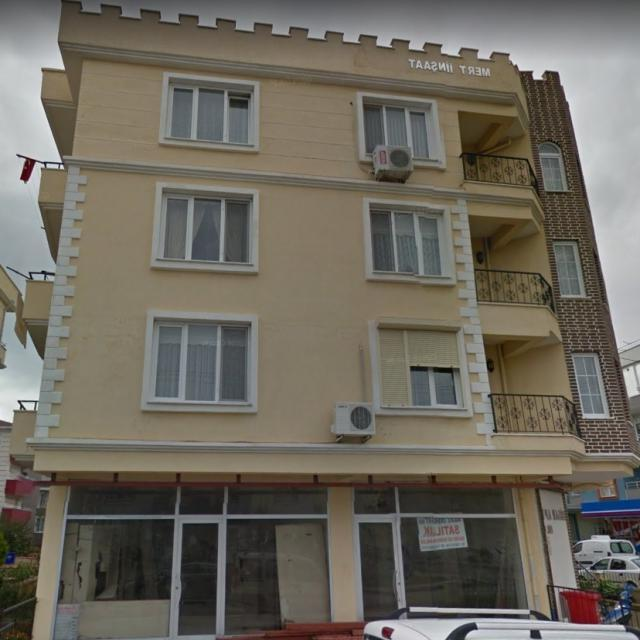Building: (12, 0, 640, 640)
